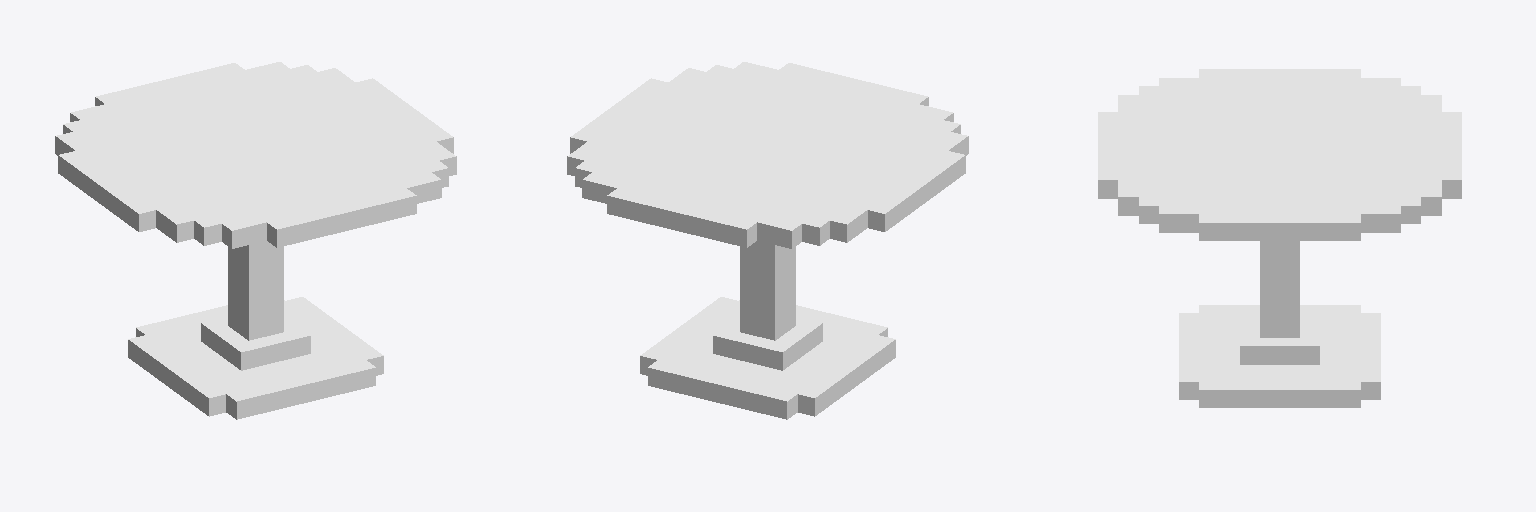
File: Tablethree.obj
3 renders of one model, left to right at view 1: azimuth 30°, elevation 25°; view 2: azimuth 150°, elevation 25°; view 3: azimuth 270°, elevation 25°, orthographic.
Parts seen in each view (by area): view 1: object 1; view 2: object 1; view 3: object 1.
Part boxes in pixels (x1,y1,x2,y2): object 1: (55,62,456,419); object 1: (567,62,968,419); object 1: (1098,69,1461,407).
Bounding box in the file's own units: 1.8 × 1.2 × 1.8.